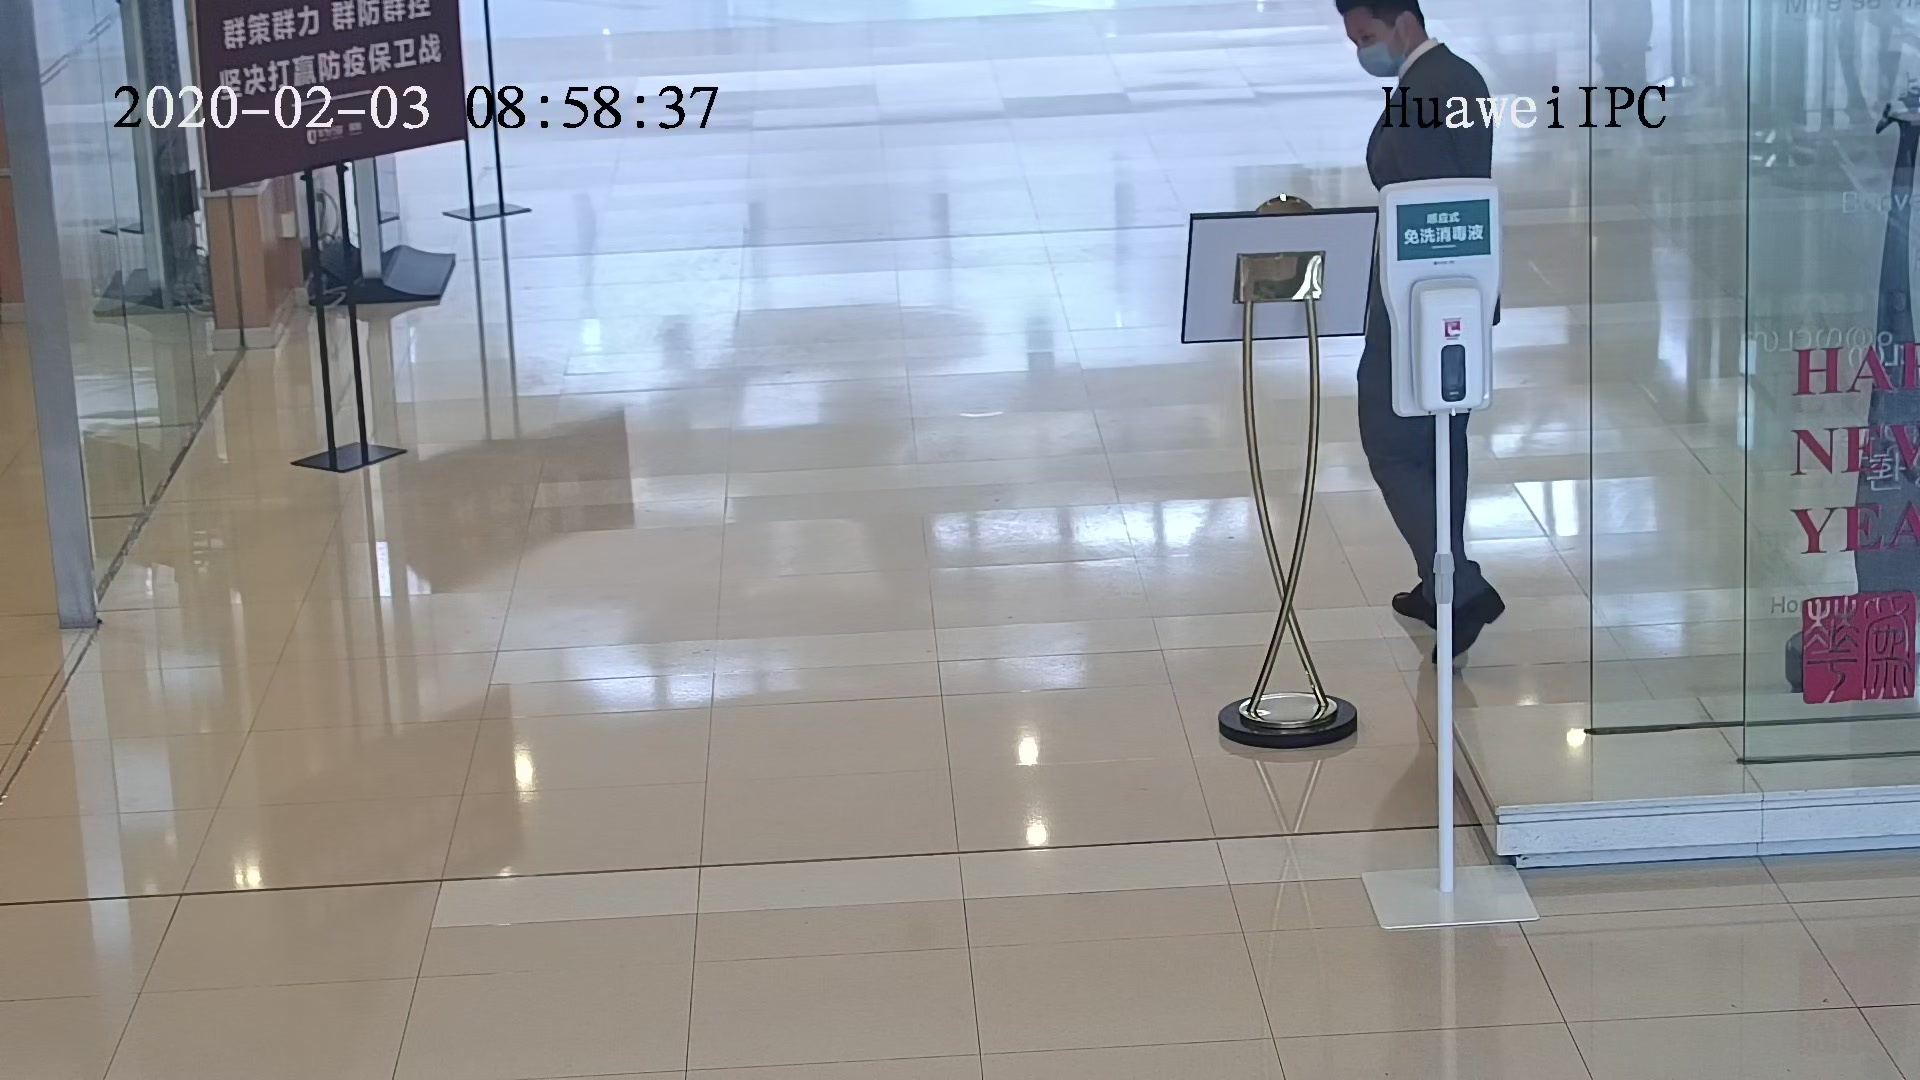face: (1341, 15, 1407, 81)
mask: (1354, 44, 1400, 83)
person: (1331, 3, 1487, 124)
